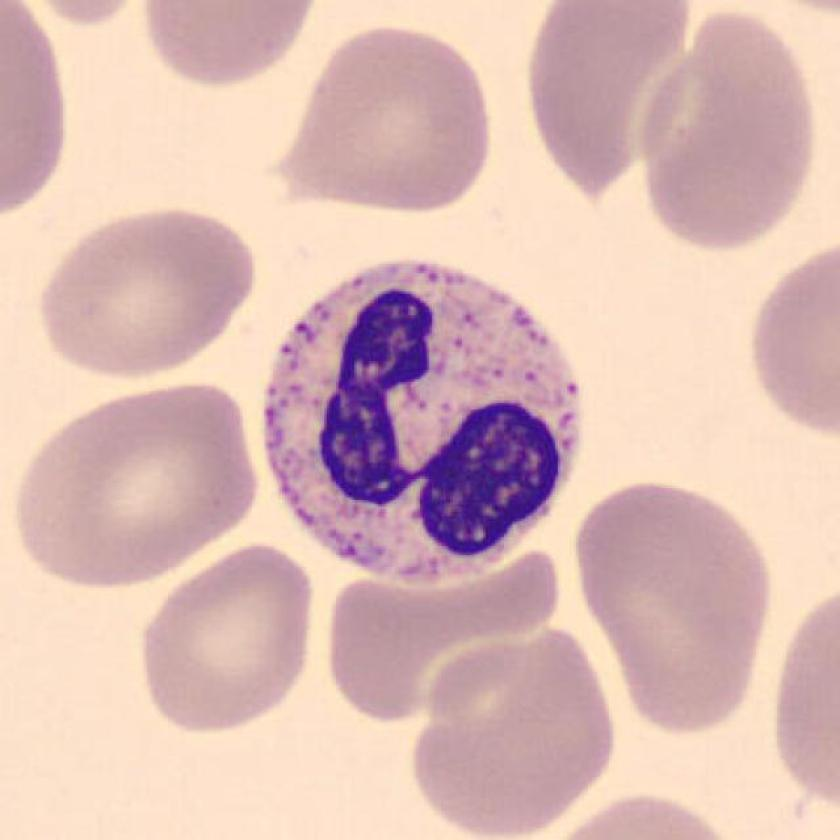neutrophil: (265, 263, 578, 589)
